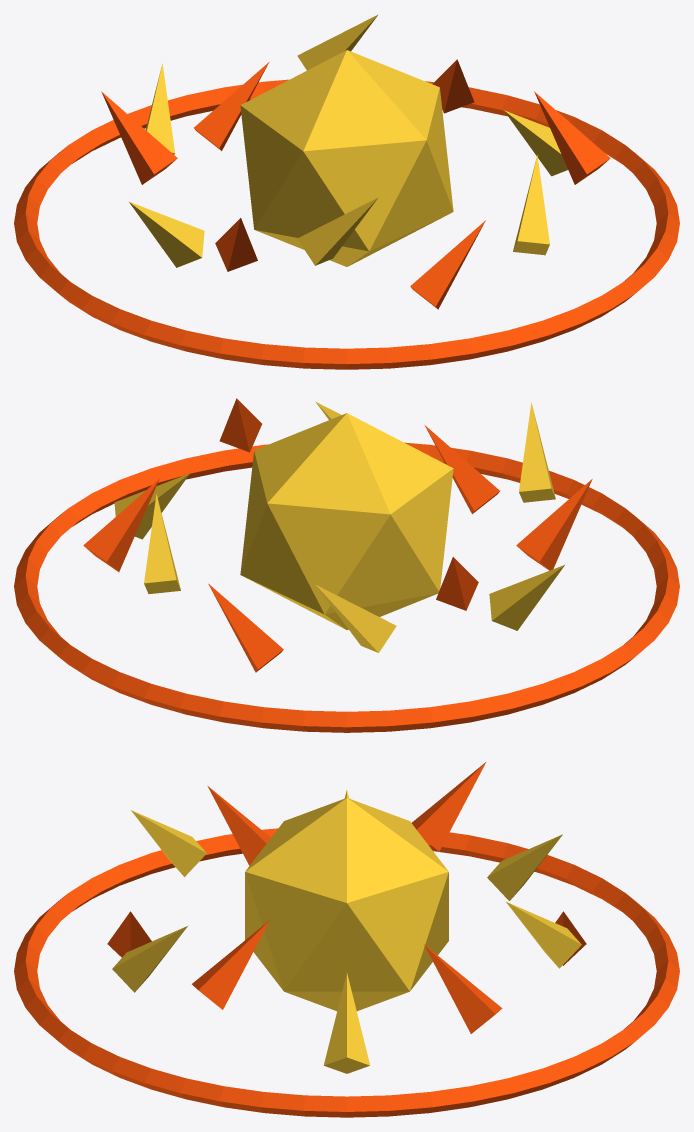
File: Blast.fbx
The picture shows the model from 3 angles, top to bottom: view 1: azimuth 30°, elevation 25°; view 2: azimuth 150°, elevation 25°; view 3: azimuth 270°, elevation 25°; orthographic projection.
Parts seen in each view (by area): view 1: Core, Shockwave, Sparks; view 2: Core, Shockwave, Sparks; view 3: Core, Shockwave, Sparks.
Boxes of the visible parts, box(x1,y1,x2,y2) form: Core: box(240, 50, 453, 266); Shockwave: box(14, 79, 679, 369); Sparks: box(101, 14, 610, 309); Core: box(240, 413, 453, 629); Shockwave: box(14, 442, 679, 732); Sparks: box(83, 398, 592, 672); Core: box(245, 798, 448, 1011); Shockwave: box(14, 828, 679, 1117); Sparks: box(107, 762, 586, 1073).
Bounding box in the file's own units: 200 × 72 × 200.
1 material, 1 textured.
